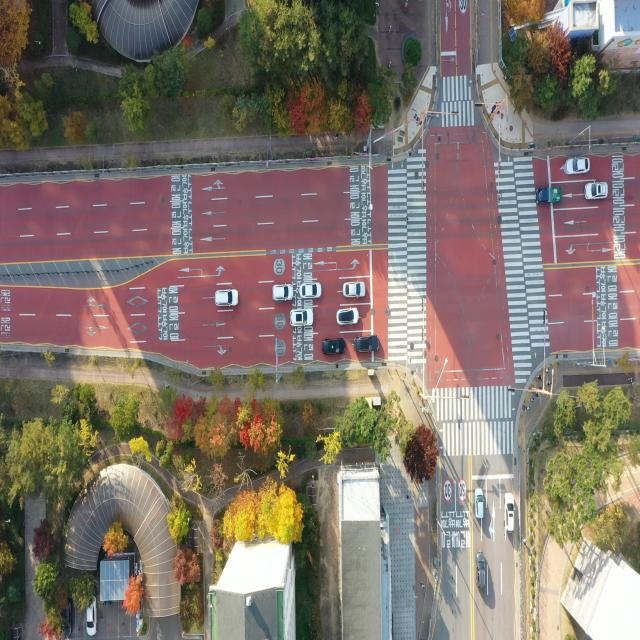car: (355, 333, 380, 356), (214, 287, 238, 306), (86, 599, 97, 637), (504, 493, 514, 533), (586, 181, 608, 199), (565, 158, 588, 175), (289, 309, 312, 326), (478, 553, 488, 591), (338, 307, 359, 325), (344, 281, 365, 298), (300, 281, 321, 298), (273, 284, 294, 300), (322, 340, 344, 355), (474, 489, 484, 521)
small_truck: (536, 188, 562, 205)
